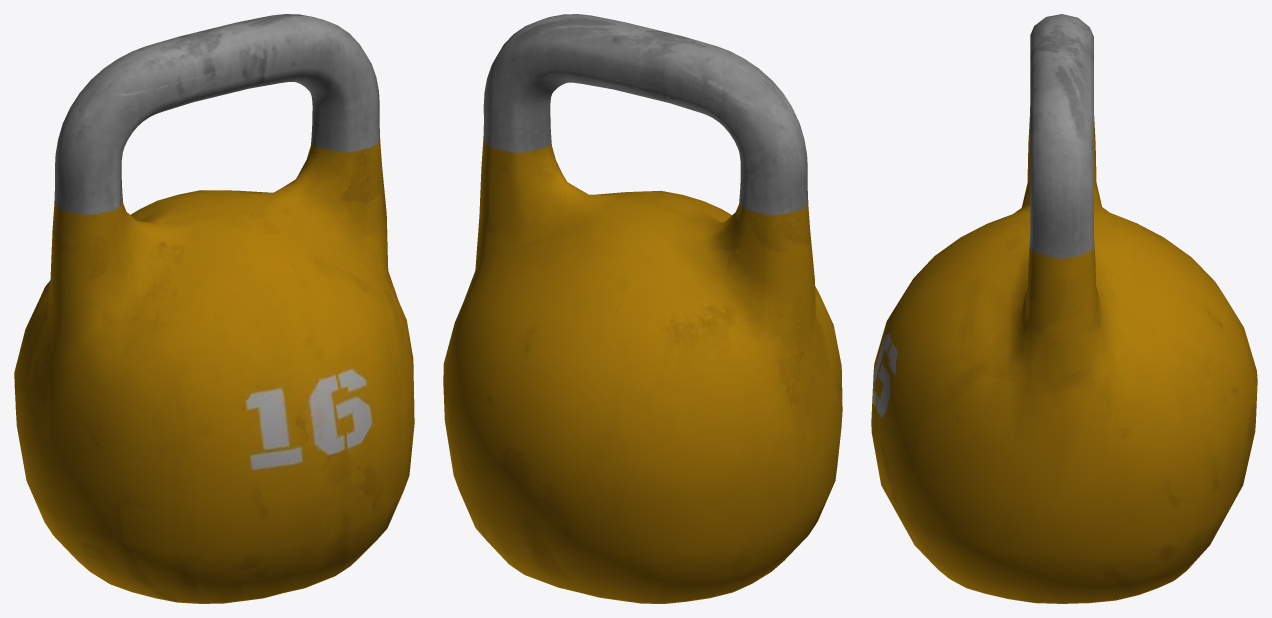
Rendered from kettlebell_16kg.glb.
3 views of the same model, side by side, from view 1: azimuth 30°, elevation 25°; view 2: azimuth 150°, elevation 25°; view 3: azimuth 270°, elevation 25° (orthographic). The views are drawn at different scales.
Visible parts, largest first — view 1: kettlebell16; view 2: kettlebell16; view 3: kettlebell16.
Part boxes in pixels (x1,y1,x2,y2): kettlebell16: [14, 14, 414, 603]; kettlebell16: [443, 14, 842, 603]; kettlebell16: [871, 14, 1257, 603].
Size of the model in its own units: 0.1904 by 0.2706 by 0.1908.
1 material, 1 textured.
